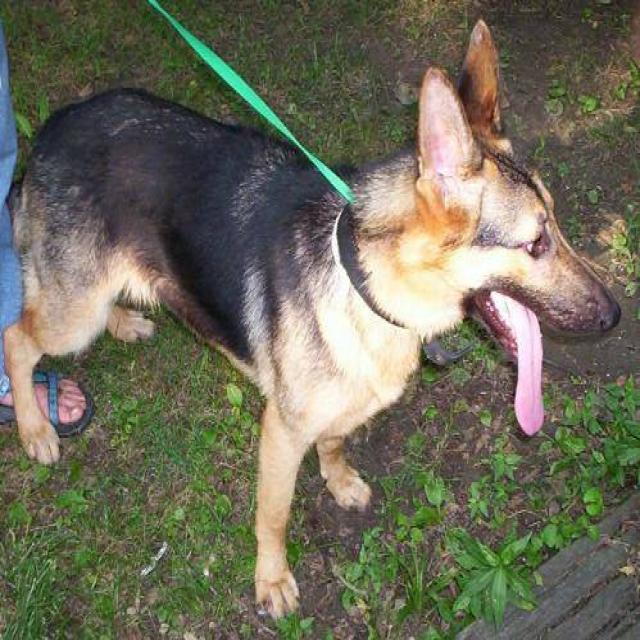dog: (0, 17, 622, 620)
